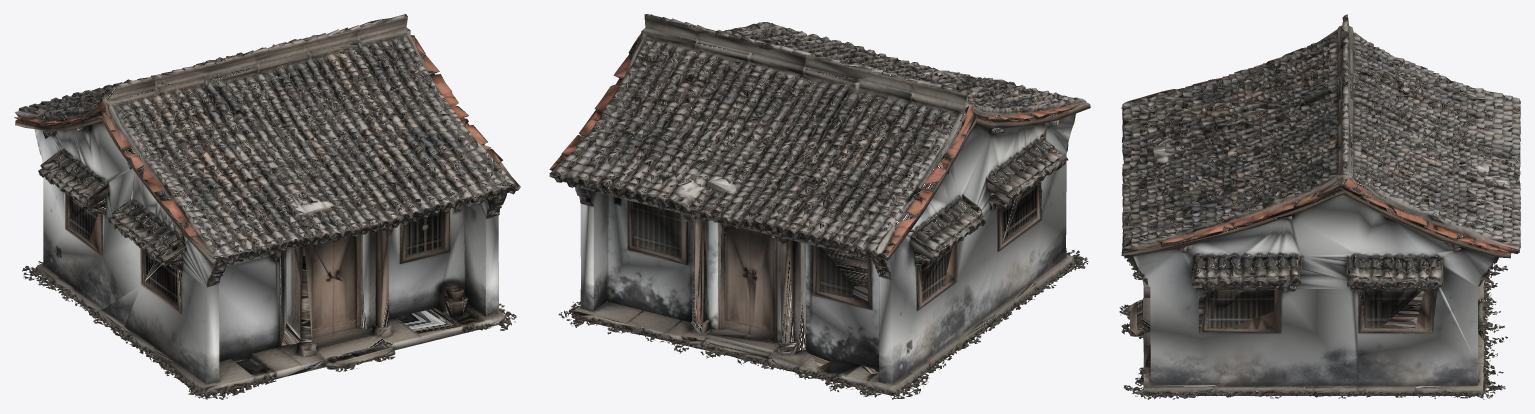
Rendered from bq_house_tiled.glb.
3 views of the same model, side by side, from view 1: azimuth 30°, elevation 25°; view 2: azimuth 150°, elevation 25°; view 3: azimuth 270°, elevation 25° (orthographic). The views are drawn at different scales.
Bounding box in the file's own units: 1.96 × 1.29 × 1.99.
Materials: 1 (1 with a texture image).
